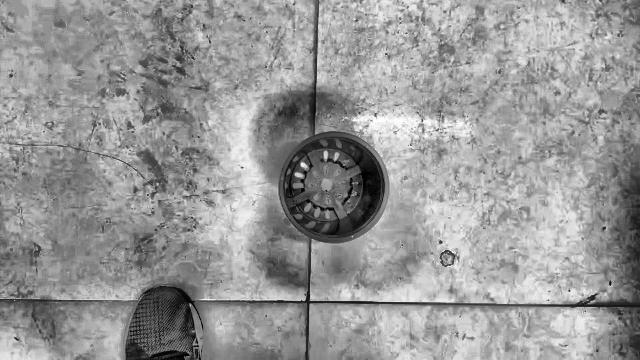pot: (279, 133, 388, 241)
